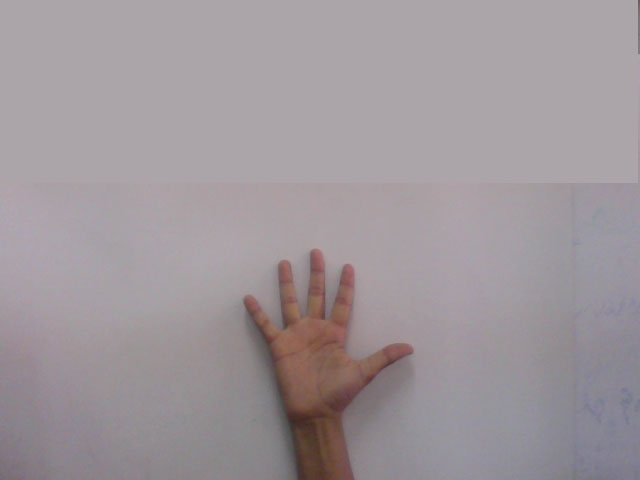hand: (229, 242, 429, 406)
